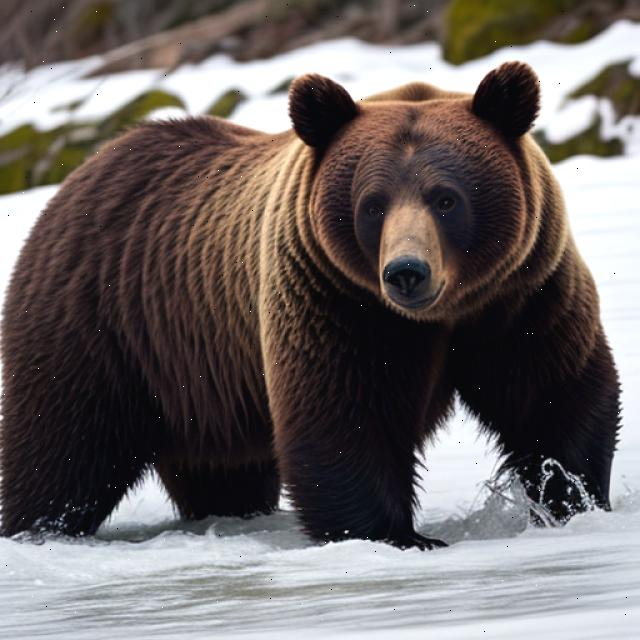bear: (280, 59, 564, 333)
